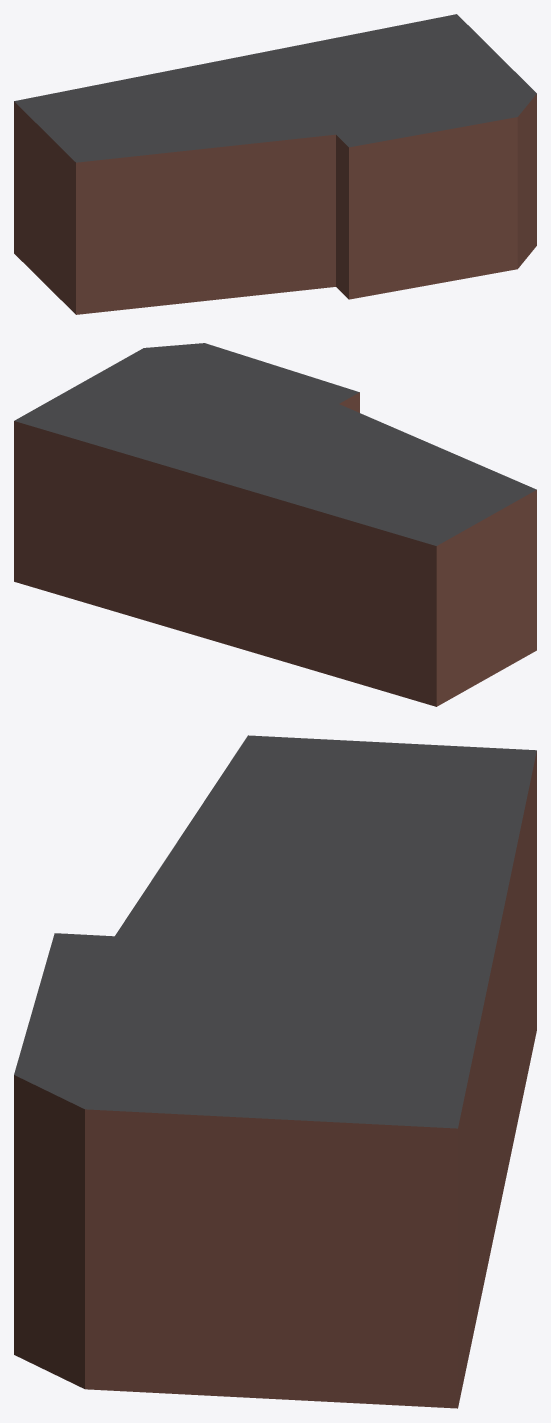
Rendered from 3_6.far.glb.
3 views of the same model, one above another, from view 1: azimuth 30°, elevation 25°; view 2: azimuth 150°, elevation 25°; view 3: azimuth 270°, elevation 25° (orthographic). The views are drawn at different scales.
Parts seen in each view (by area): view 1: 3_6_far; view 2: 3_6_far; view 3: 3_6_far.
Part boxes in pixels (box(x1,y1,x2,y2)): 3_6_far: box(14, 14, 536, 314); 3_6_far: box(14, 343, 536, 706); 3_6_far: box(14, 735, 536, 1408).
Size of the model in its own units: 31.32 by 10.4 by 17.61.
